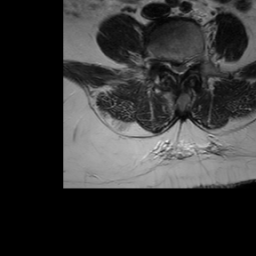CCS_severe_stenosis: (175, 52, 182, 85)
LFS_severe_stenosis: (190, 47, 199, 72)
LLS_normal: (182, 50, 189, 77)
RFS_severe_stenosis: (157, 49, 165, 75)
RLS_stenosis: (166, 51, 174, 77)
